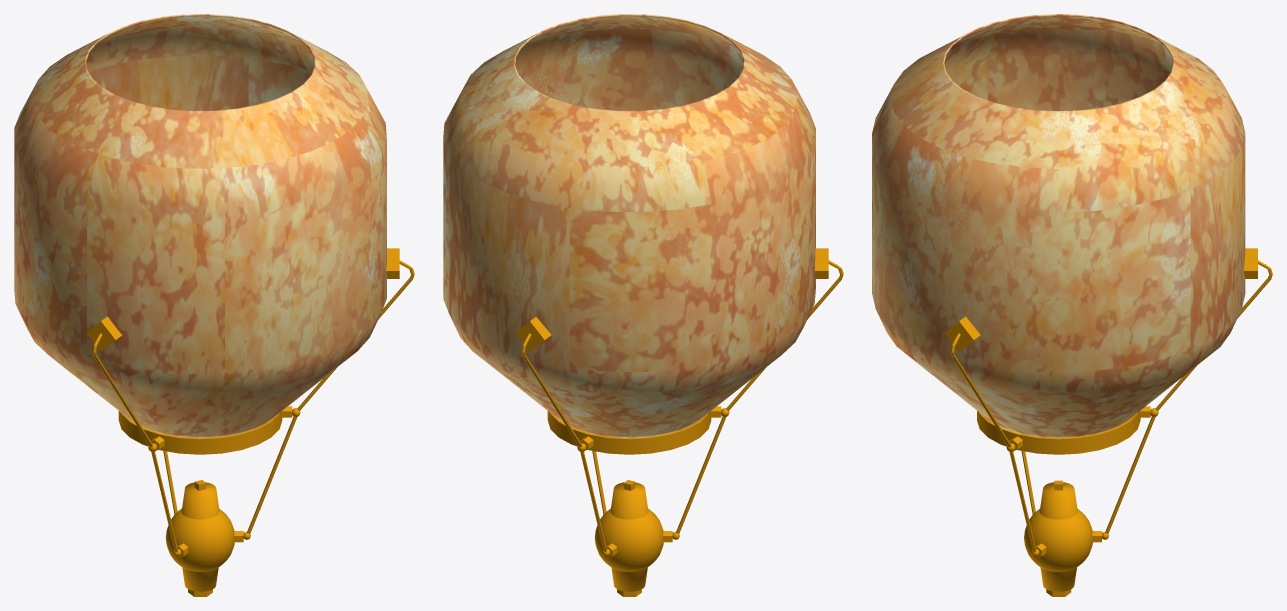
File: lantern_2.fbx
The picture shows the model from 3 angles, left to right: view 1: azimuth 30°, elevation 25°; view 2: azimuth 150°, elevation 25°; view 3: azimuth 270°, elevation 25°; orthographic projection.
Parts seen in each view (by area): view 1: Cylinder.002, Cube.001; view 2: Cylinder.002, Cube.001; view 3: Cylinder.002, Cube.001.
Boxes of the visible parts, box(x1,y1,x2,y2) form: Cylinder.002: box(14, 14, 386, 437); Cube.001: box(86, 248, 414, 596); Cylinder.002: box(443, 14, 815, 437); Cube.001: box(515, 248, 843, 596); Cylinder.002: box(872, 14, 1245, 437); Cube.001: box(944, 248, 1272, 596).
Bounding box in the file's own units: 172 × 269 × 185.
